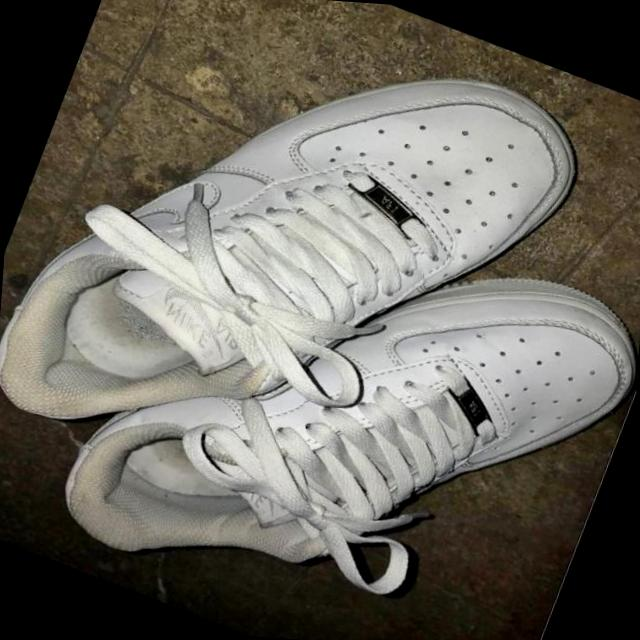nike_fake_airforce: (0, 0, 606, 575), (39, 132, 640, 640)
